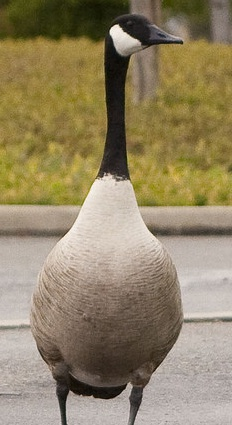goose: (16, 11, 199, 404)
